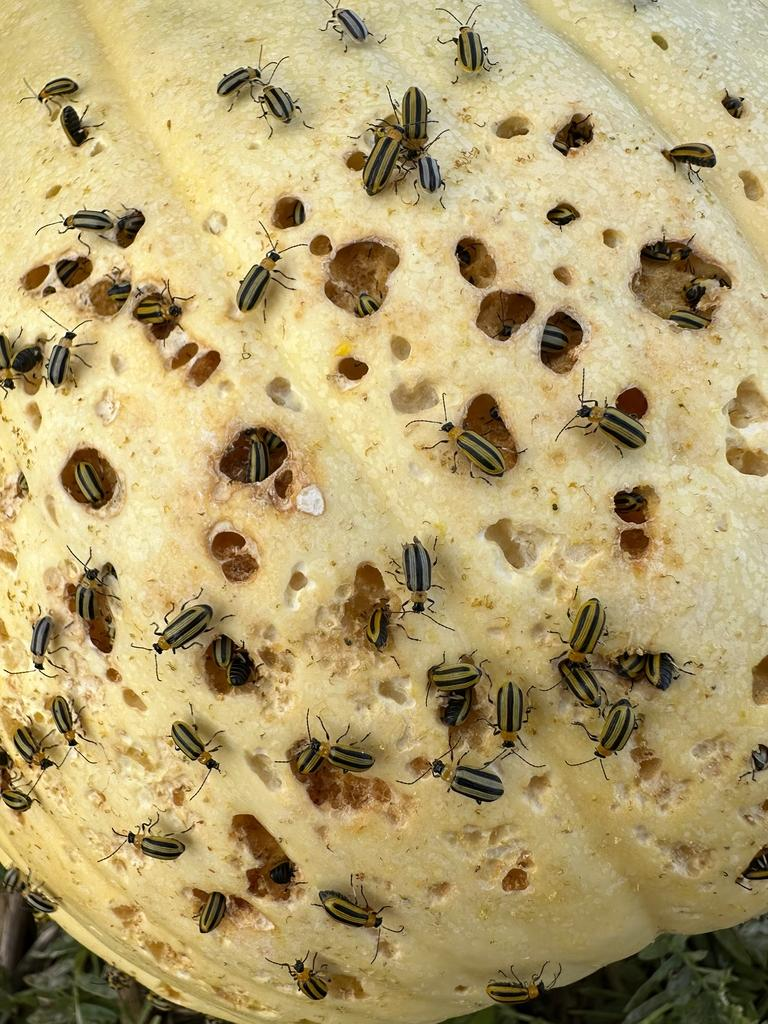potato_beetle: (390, 361, 530, 504), (543, 346, 674, 490), (126, 570, 237, 680), (401, 737, 527, 827), (298, 861, 410, 955), (224, 213, 315, 325), (537, 564, 623, 681), (149, 695, 241, 802), (296, 700, 387, 800), (381, 514, 454, 631), (24, 308, 106, 409), (90, 808, 192, 882), (476, 663, 543, 767), (28, 191, 118, 257)
